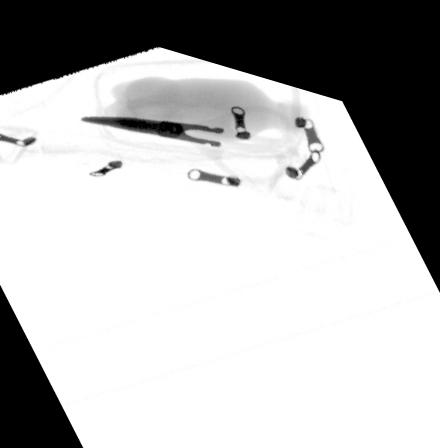Scissors: (80, 90, 300, 170)
